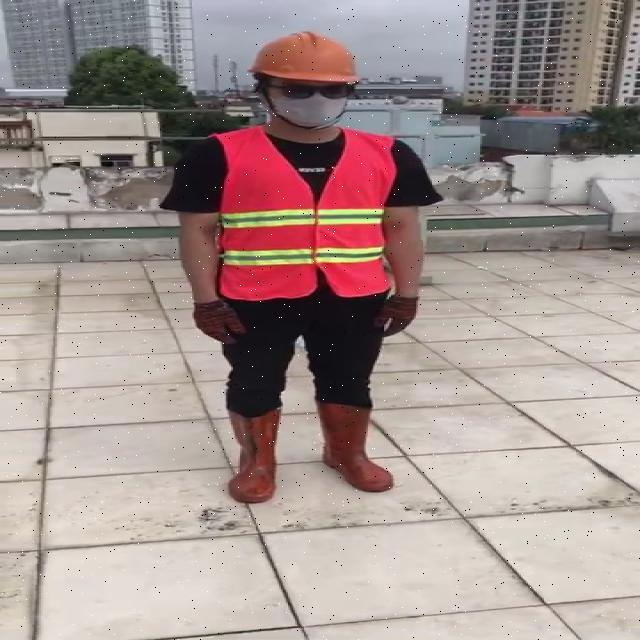Hard_hat: (243, 30, 365, 95)
Vest: (210, 126, 391, 303)
